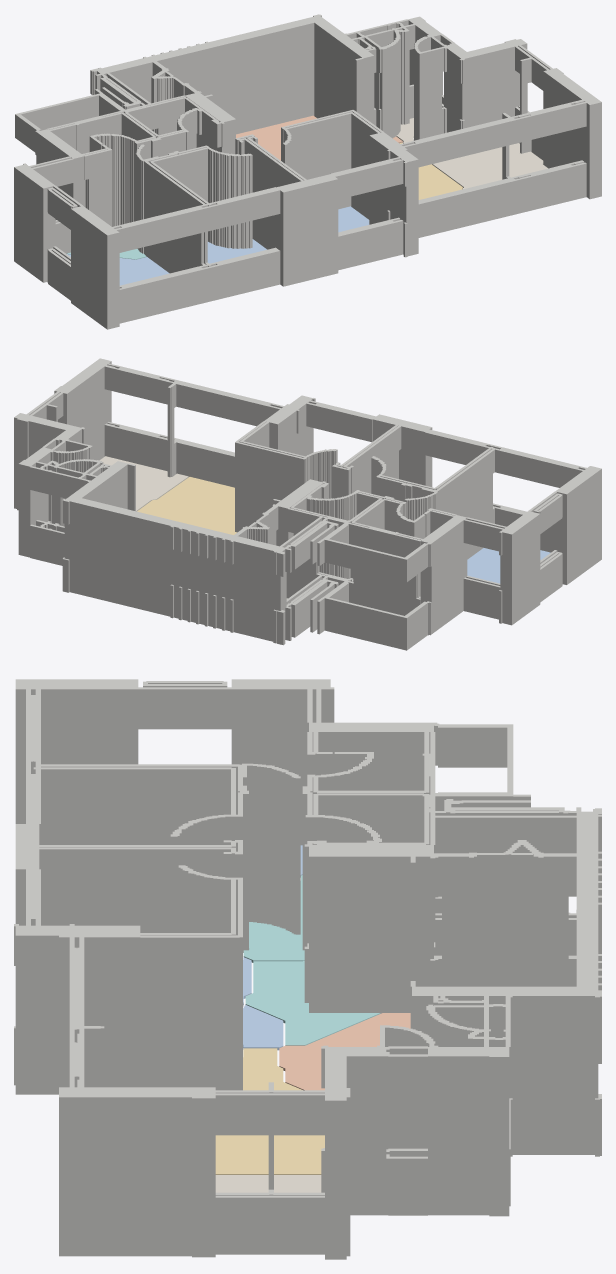
3 renders of one model, top to bottom at view 1: azimuth 30°, elevation 25°; view 2: azimuth 150°, elevation 25°; view 3: azimuth 270°, elevation 25°, orthographic. The views are drawn at different scales.
Visible parts, largest first — view 1: walls, room:other:5, room:living:2, room:bedroom:3, room:kitchen:0, room:bedroom:6, room:bedroom:4; view 2: walls, room:living:2, room:other:5, room:bedroom:3; view 3: walls, room:living:2, room:bath:1, room:kitchen:0, room:bath:7, room:other:5, room:bedroom:4.
Part boxes in pixels (x1,y1,x2,y2): walls: [14, 14, 601, 329]; room:other:5: [396, 118, 547, 189]; room:living:2: [399, 142, 462, 199]; room:bedroom:3: [67, 254, 169, 285]; room:kitchen:0: [236, 115, 402, 160]; room:bedroom:6: [207, 239, 266, 263]; room:bedroom:4: [338, 206, 369, 232]; walls: [14, 358, 601, 650]; room:living:2: [137, 477, 236, 534]; room:other:5: [99, 456, 188, 511]; room:bedroom:3: [467, 548, 550, 583]; walls: [14, 679, 601, 1259]; room:living:2: [215, 1048, 324, 1174]; room:bath:1: [245, 961, 380, 1045]; room:kitchen:0: [279, 1013, 410, 1090]; room:bath:7: [243, 875, 304, 962]; room:other:5: [215, 1175, 321, 1192]; room:bedroom:4: [243, 1005, 283, 1050].
Size of the model in its own units: 15.91 by 2.8 by 9.38.
